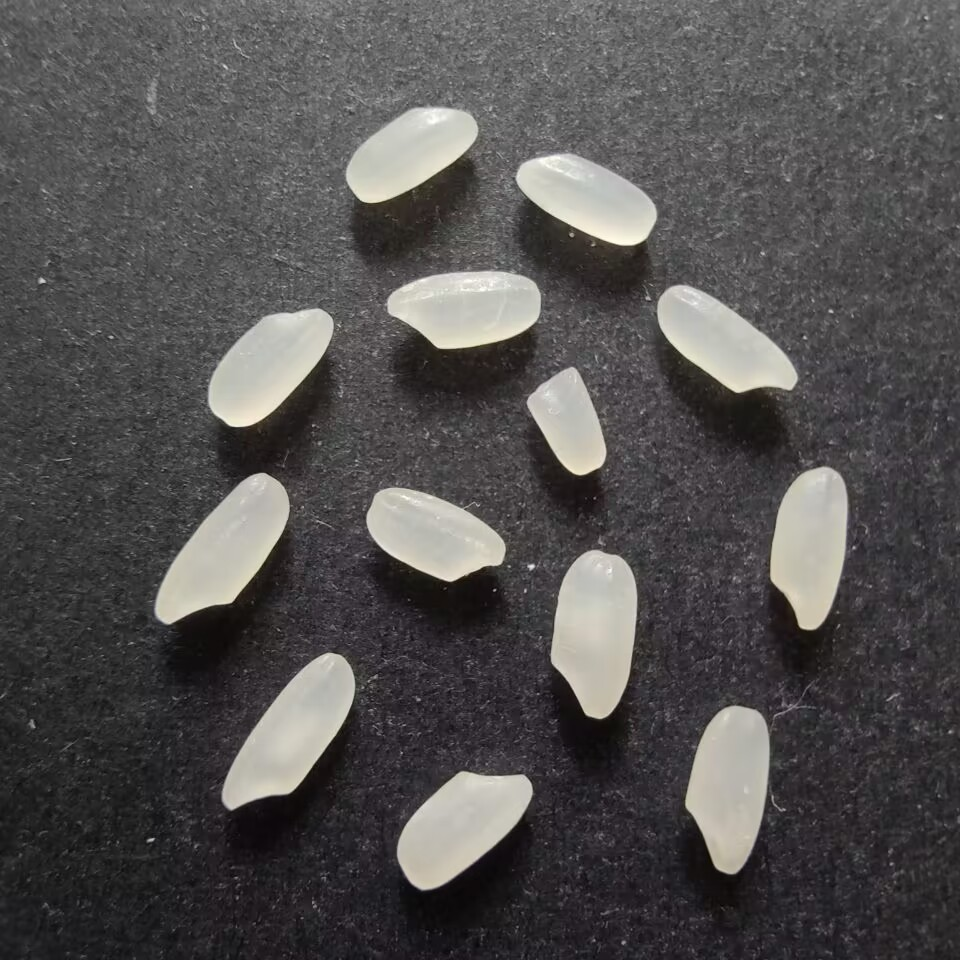broken: (523, 364, 607, 480)
rice: (219, 648, 358, 813), (152, 469, 293, 627), (392, 766, 539, 899), (203, 303, 335, 436), (654, 284, 805, 399), (545, 548, 642, 721), (681, 702, 775, 879), (361, 482, 511, 587), (764, 461, 851, 637), (511, 151, 662, 249), (376, 269, 547, 353), (341, 102, 480, 205)
